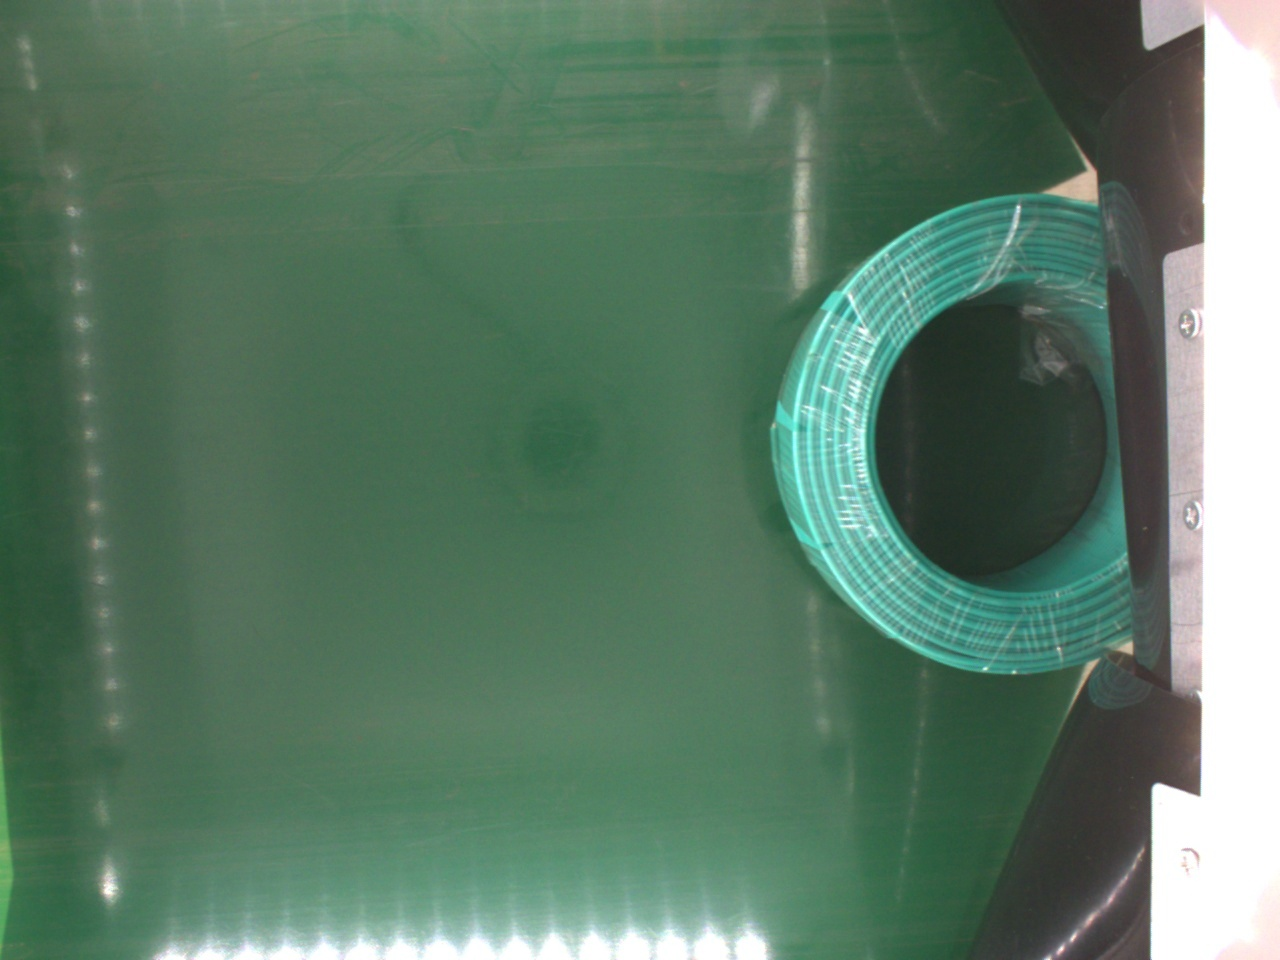green: (771, 195, 1141, 670)
